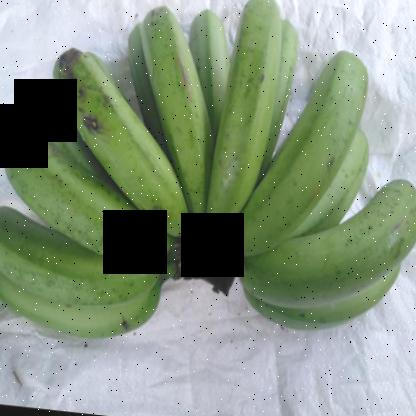unripe: (239, 47, 372, 268), (50, 40, 185, 233), (0, 117, 167, 259), (240, 172, 416, 302), (136, 0, 222, 231), (205, 0, 278, 247), (0, 206, 148, 302)
